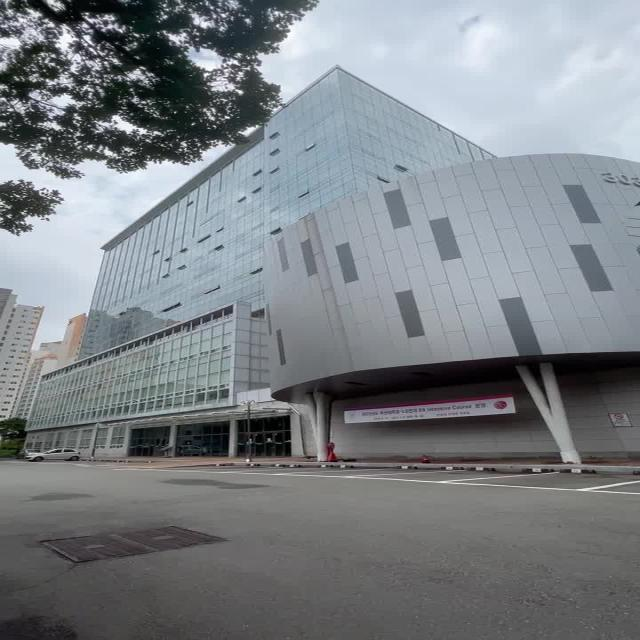building: (66, 181, 640, 416)
